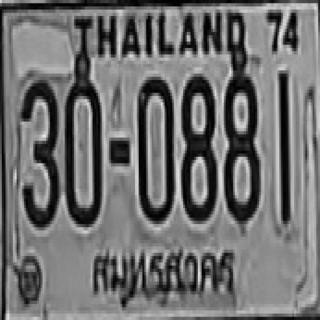N00: (64, 74, 101, 224), (137, 74, 172, 221)
N01: (276, 70, 290, 224)
N03: (19, 75, 58, 226)
N08: (224, 70, 259, 224), (181, 72, 215, 219)
P58: (90, 238, 240, 308)
